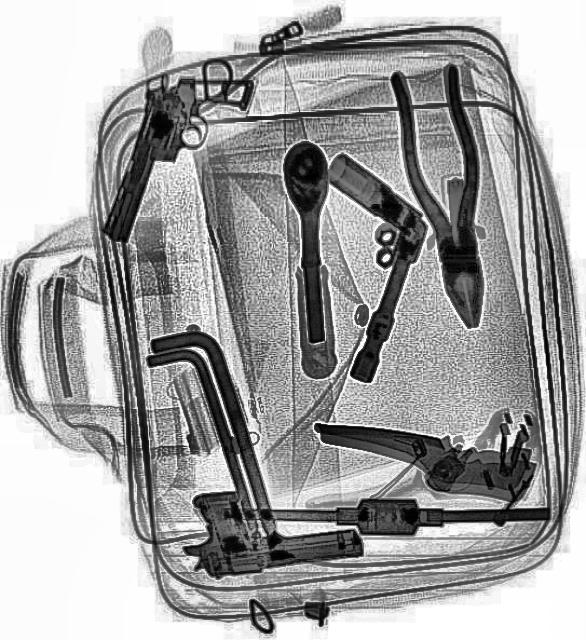Gun: (99, 51, 254, 263), (174, 472, 362, 580)
Pliers: (385, 59, 509, 335)
